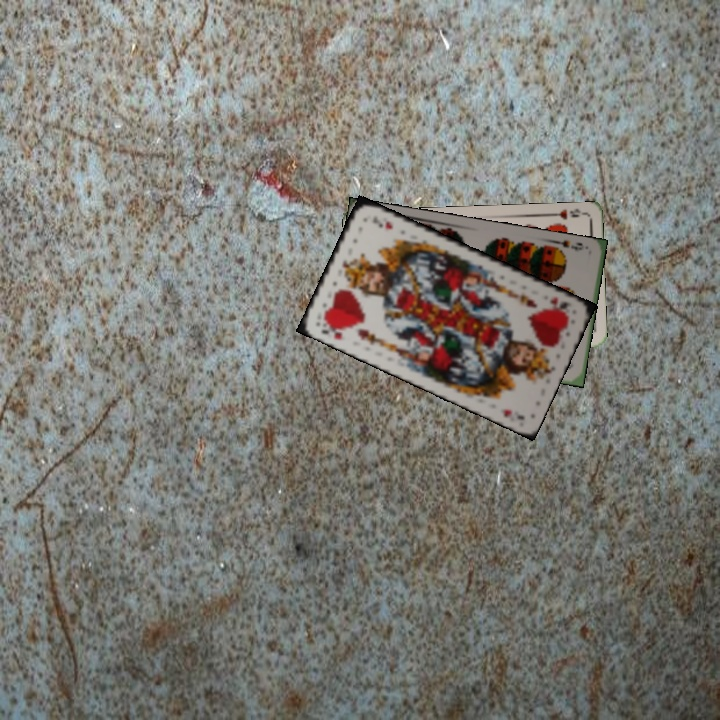H9: (546, 205, 586, 222)
HK: (318, 316, 348, 342), (545, 293, 573, 313)
S9: (548, 236, 589, 256)
